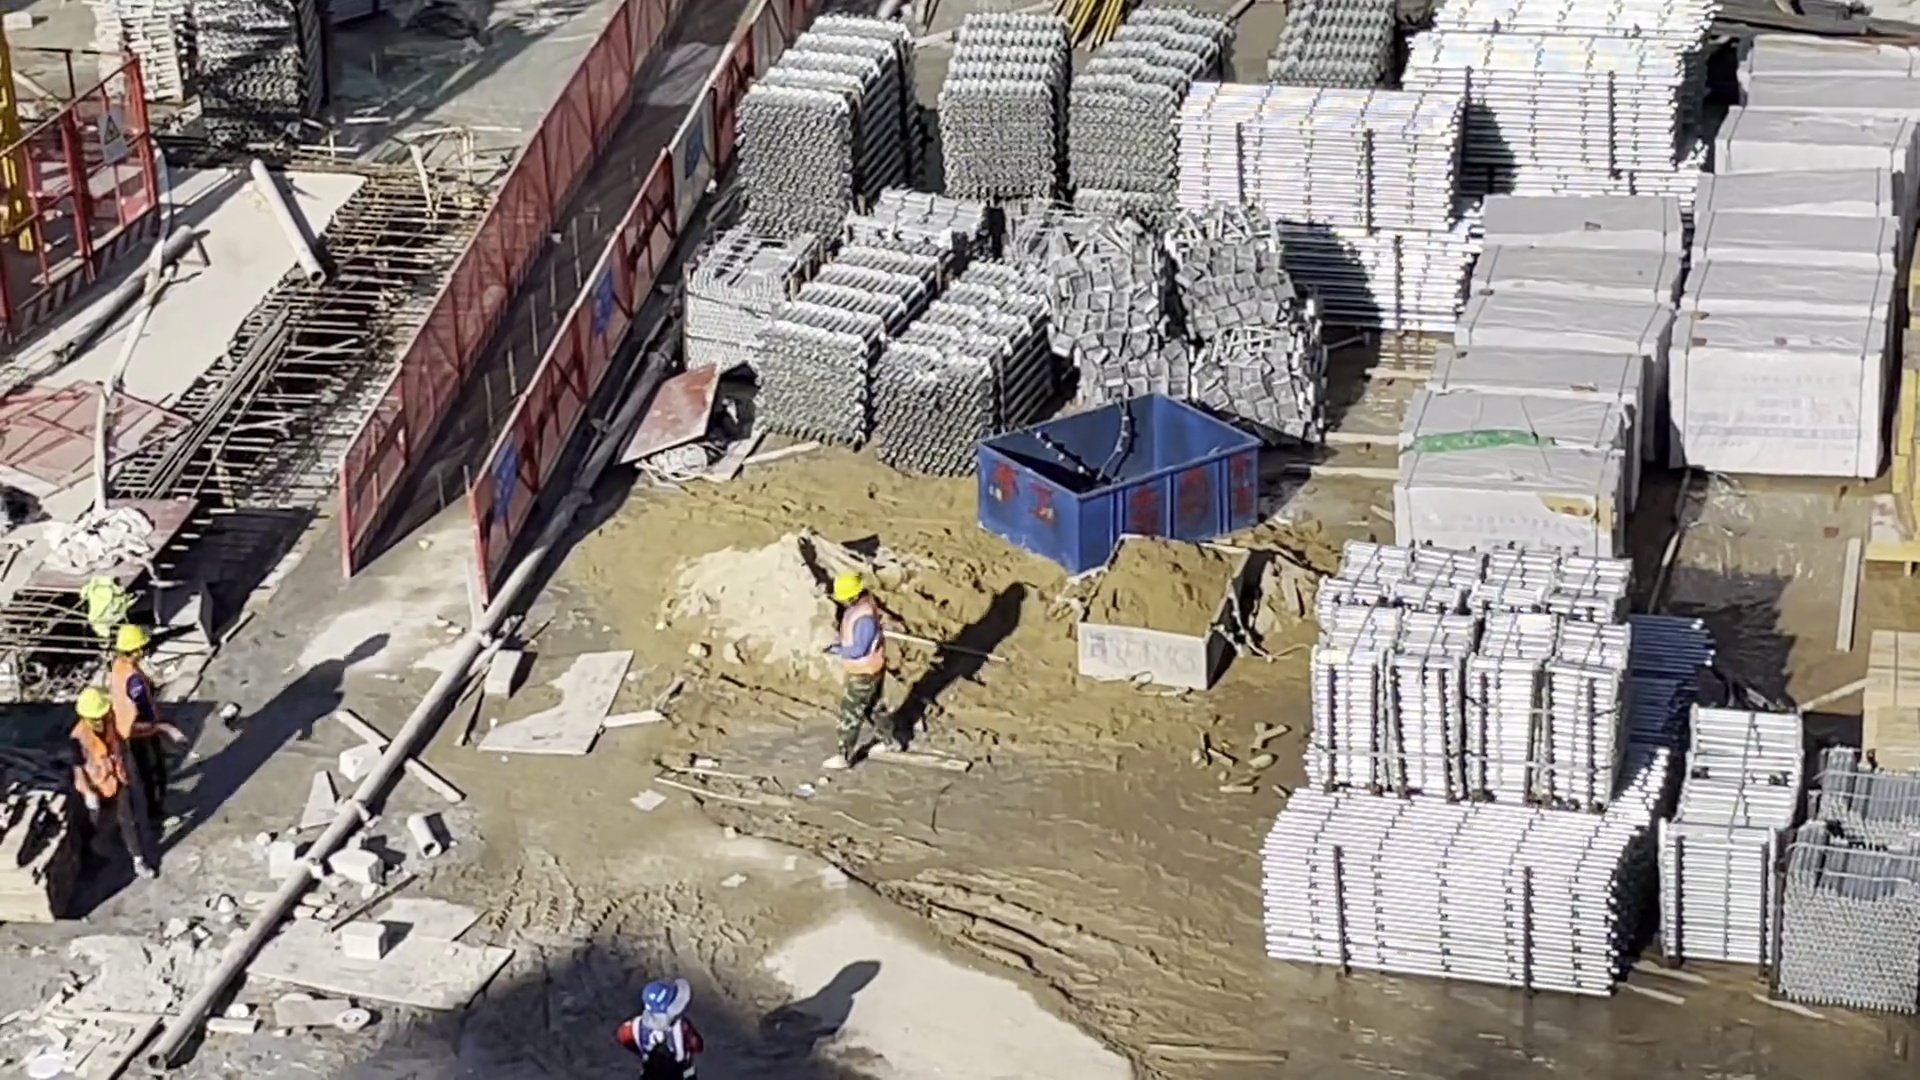board: (1865, 627, 1920, 759)
fence: (352, 3, 759, 574)
helmet: (116, 624, 152, 656), (641, 985, 679, 1011), (78, 691, 109, 718), (835, 576, 862, 600)
hopper: (977, 391, 1261, 570), (1081, 533, 1254, 685)
person: (69, 692, 148, 884), (829, 577, 905, 769), (105, 620, 165, 843), (619, 983, 711, 1080)
scaffold: (1322, 534, 1630, 818), (1261, 792, 1640, 1007), (1186, 83, 1467, 330), (769, 249, 1047, 473), (946, 12, 1221, 201), (1402, 31, 1685, 169), (742, 16, 911, 238), (1779, 760, 1920, 1004), (1659, 706, 1788, 958), (197, 1, 324, 131), (1281, 1, 1405, 96), (97, 1, 194, 107)
slogan: (492, 434, 515, 516), (592, 265, 612, 333)
vest: (77, 724, 124, 808), (111, 661, 150, 738), (639, 1016, 690, 1073), (838, 610, 874, 679)
